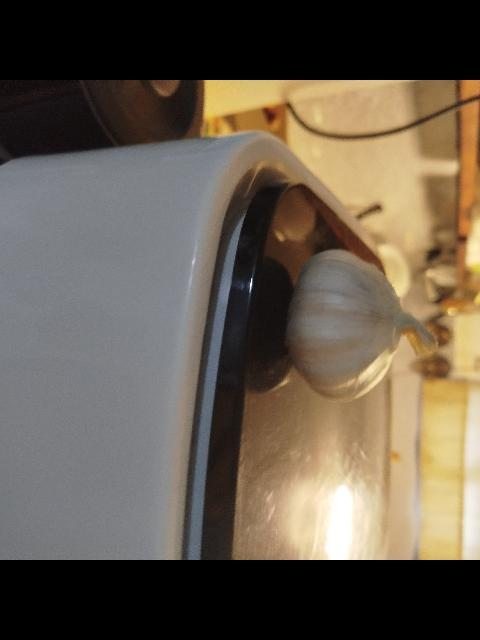garlic: (284, 249, 438, 403)
